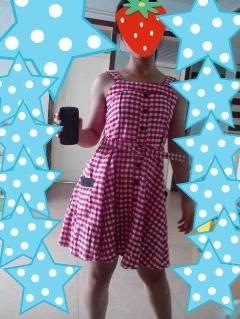sling: (58, 70, 179, 271)
